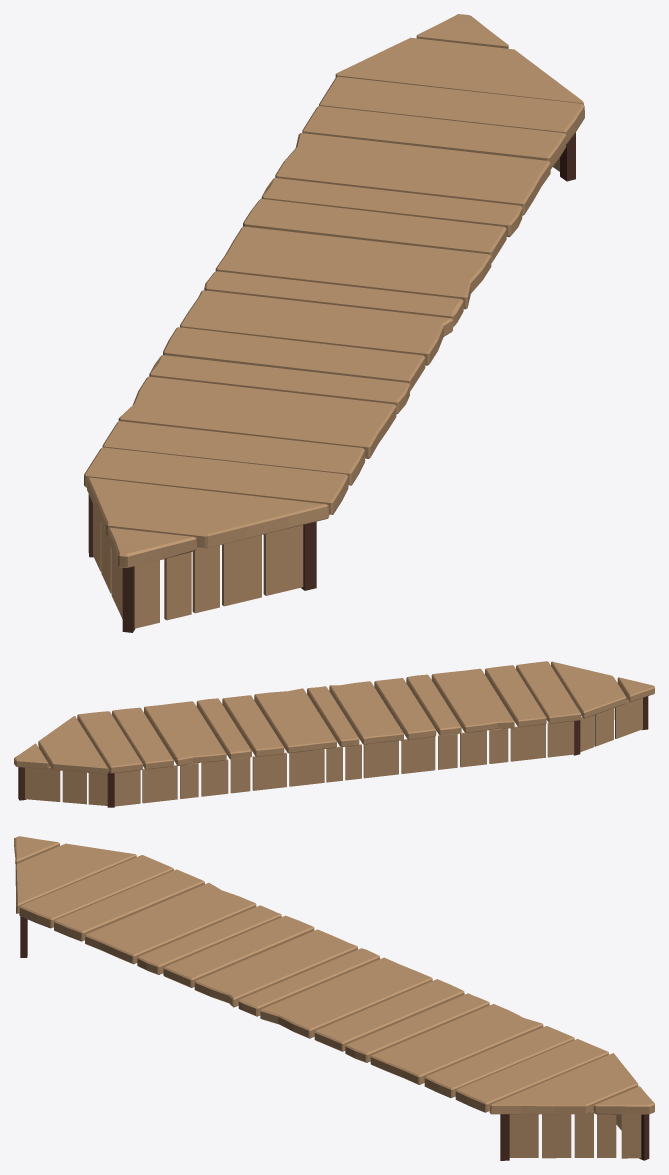
The model's file is small-foundation-c.glb.
The picture shows the model from 3 angles, top to bottom: view 1: azimuth 30°, elevation 25°; view 2: azimuth 150°, elevation 25°; view 3: azimuth 270°, elevation 25°; orthographic projection. The views are drawn at different scales.
Parts seen in each view (by area): view 1: Small Foundation C (×2); view 2: Small Foundation C (×2); view 3: Small Foundation C (×2).
Part boxes in pixels (x1=…): Small Foundation C (×2): x1=84, y1=14, x2=584, y2=632; Small Foundation C (×2): x1=14, y1=661, x2=654, y2=807; Small Foundation C (×2): x1=14, y1=836, x2=654, y2=1160.
Size of the model in its own units: 4.4 by 0.4325 by 4.41.
